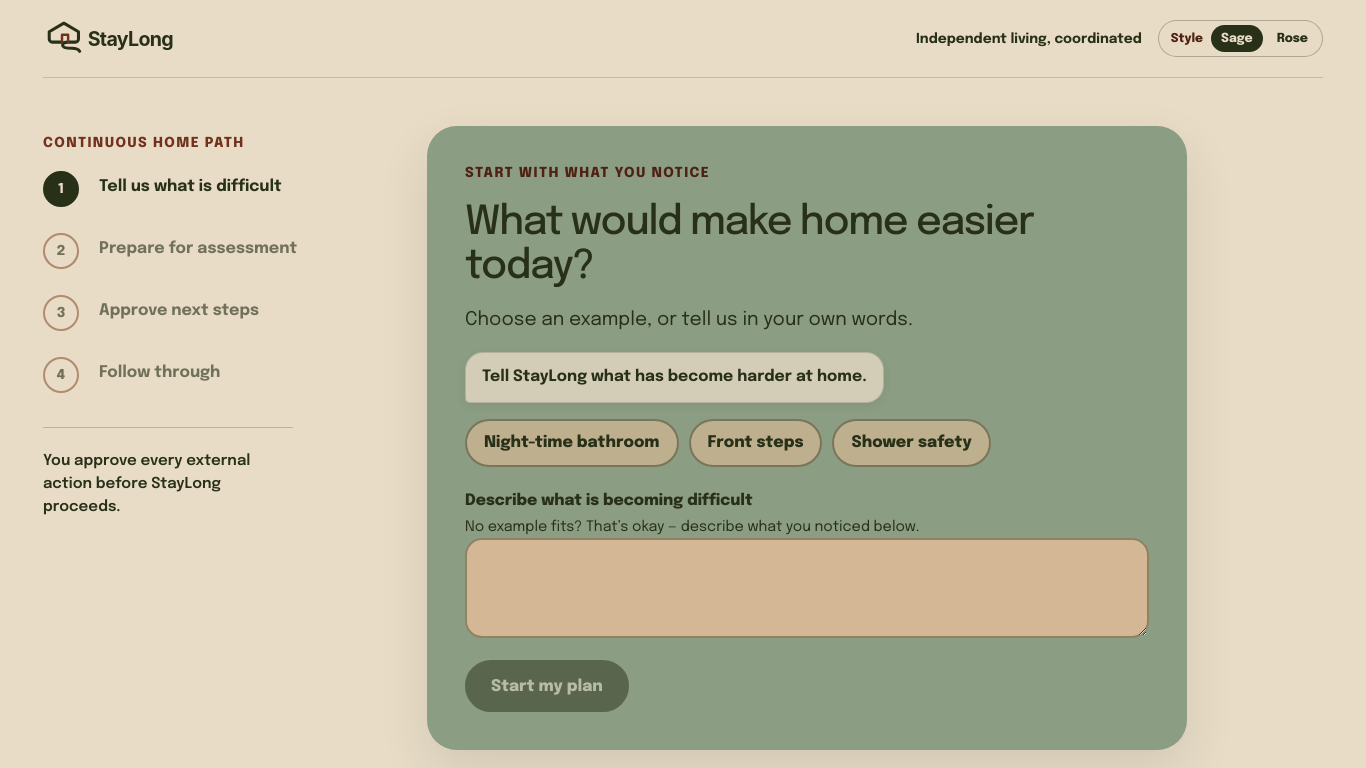
Test: StayLong Continuous Home Path › turns a chosen example into an editable starting point
Click the button "Night-time bathroom": (572, 443) [465, 419, 678, 467]
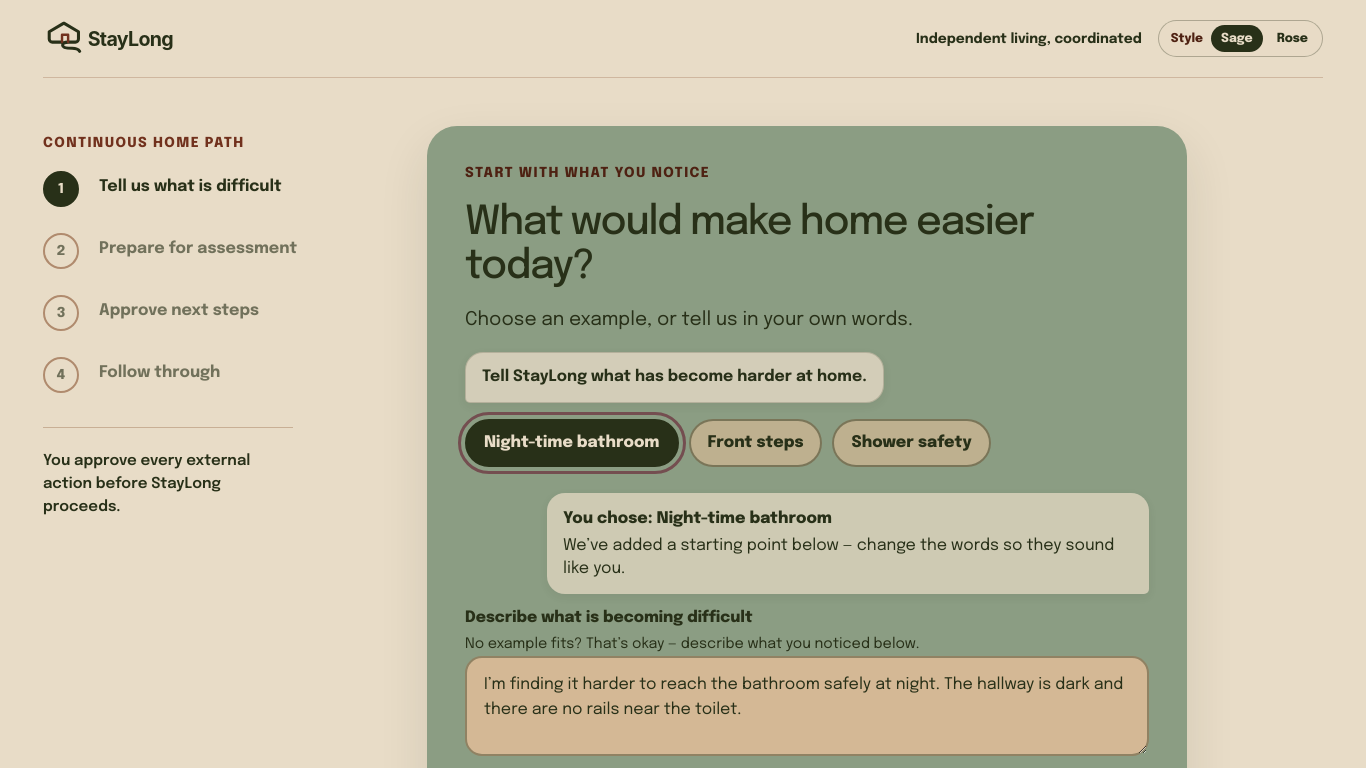
Check: the text "You chose: Night-time bathroom" is shown, box [563, 510, 832, 527]
Check: the text "We’ve added a starting point below — change the words so they sound like you." is shown, box [563, 534, 1133, 580]
Check: the text box labelled "Describe what is becoming difficult" holds "I’m finding it harder to reach the bathroom safely at night. The hallway is dark and there are no rails near the toilet.", box [465, 656, 1149, 756]
